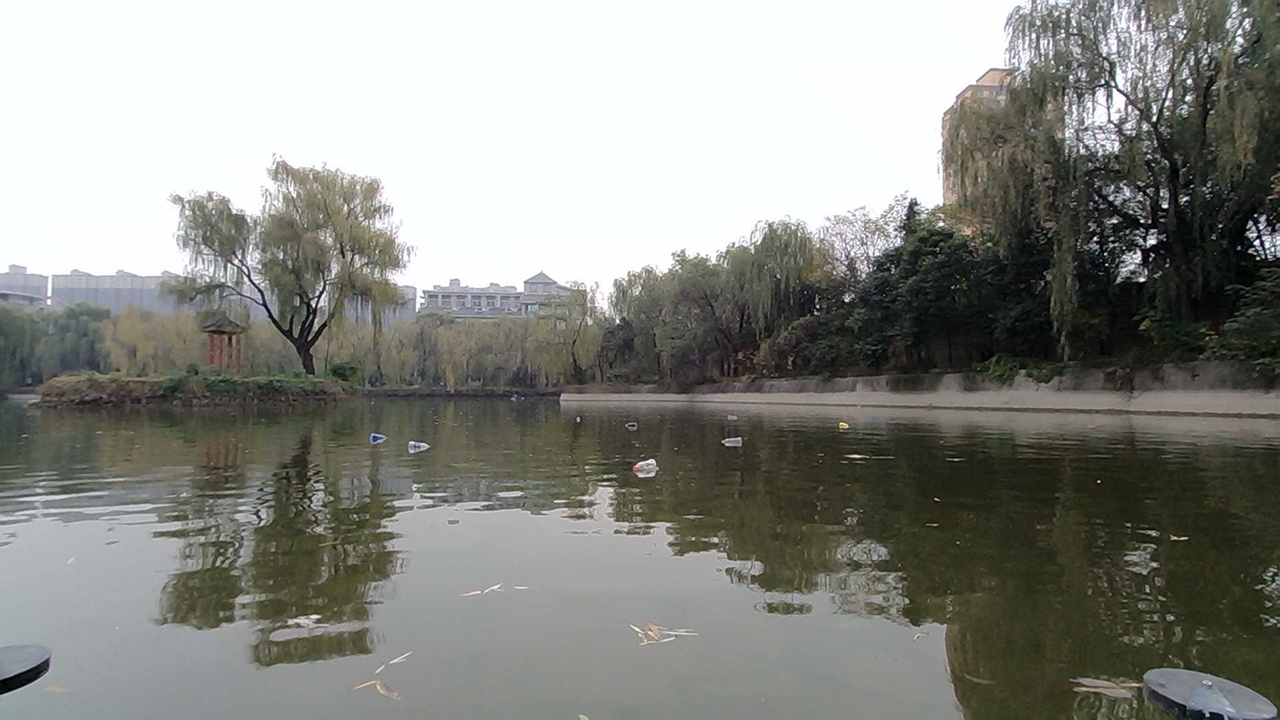bottle: (713, 417, 754, 454), (404, 426, 440, 459), (624, 406, 653, 434), (631, 456, 662, 480), (573, 404, 600, 430), (366, 428, 390, 455), (832, 415, 855, 440)
